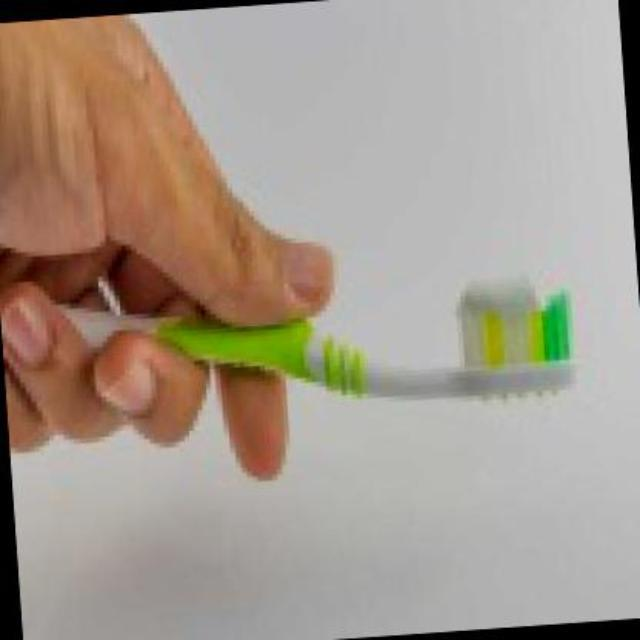toothbrush: (0, 70, 616, 506)
